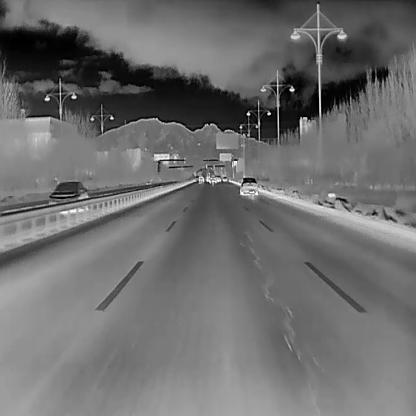car: (49, 180, 88, 206), (238, 175, 257, 195), (197, 173, 204, 184), (209, 173, 216, 184), (205, 171, 211, 183), (214, 174, 220, 181), (221, 176, 227, 181)
